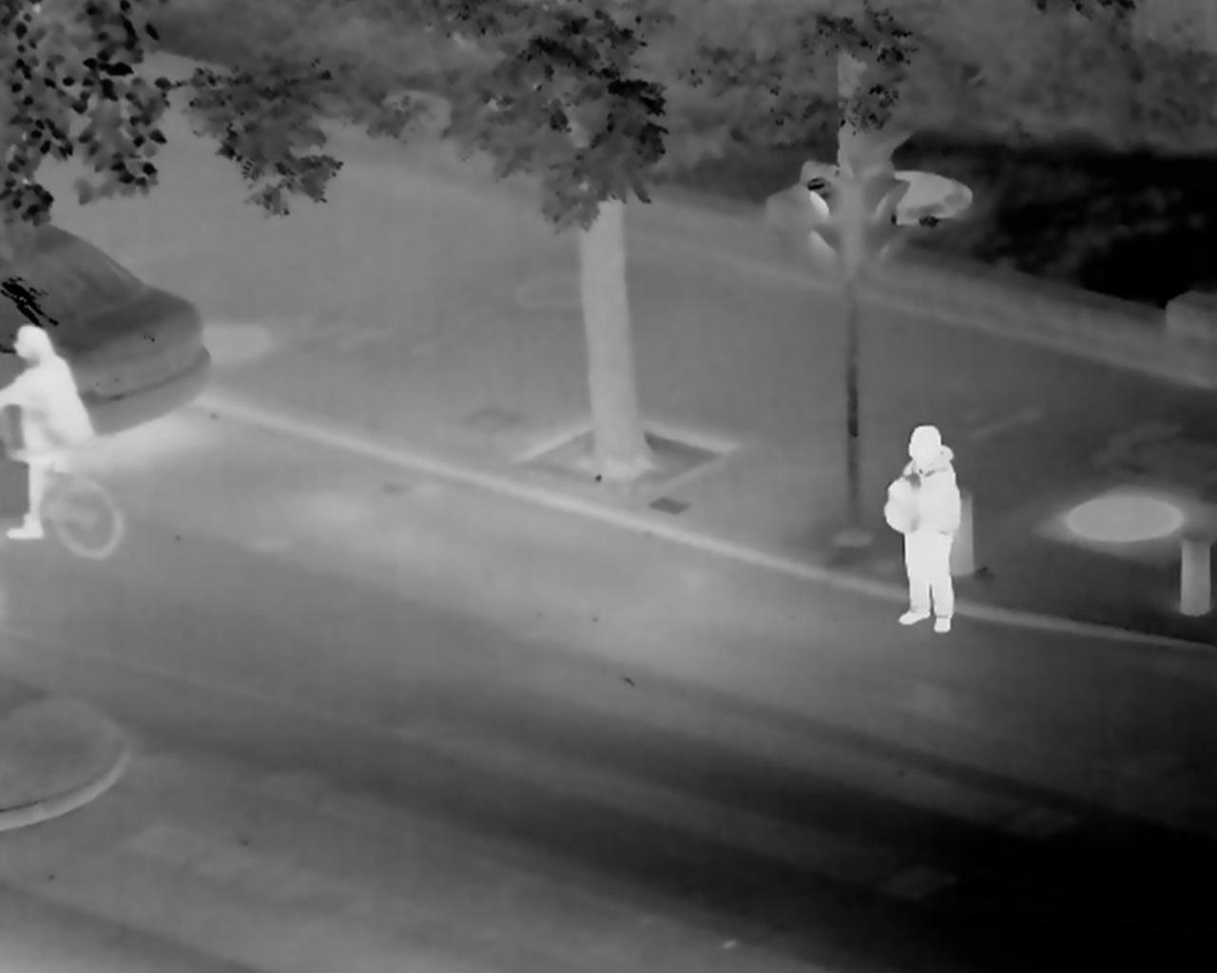person: (2, 322, 98, 542), (881, 424, 960, 631)
